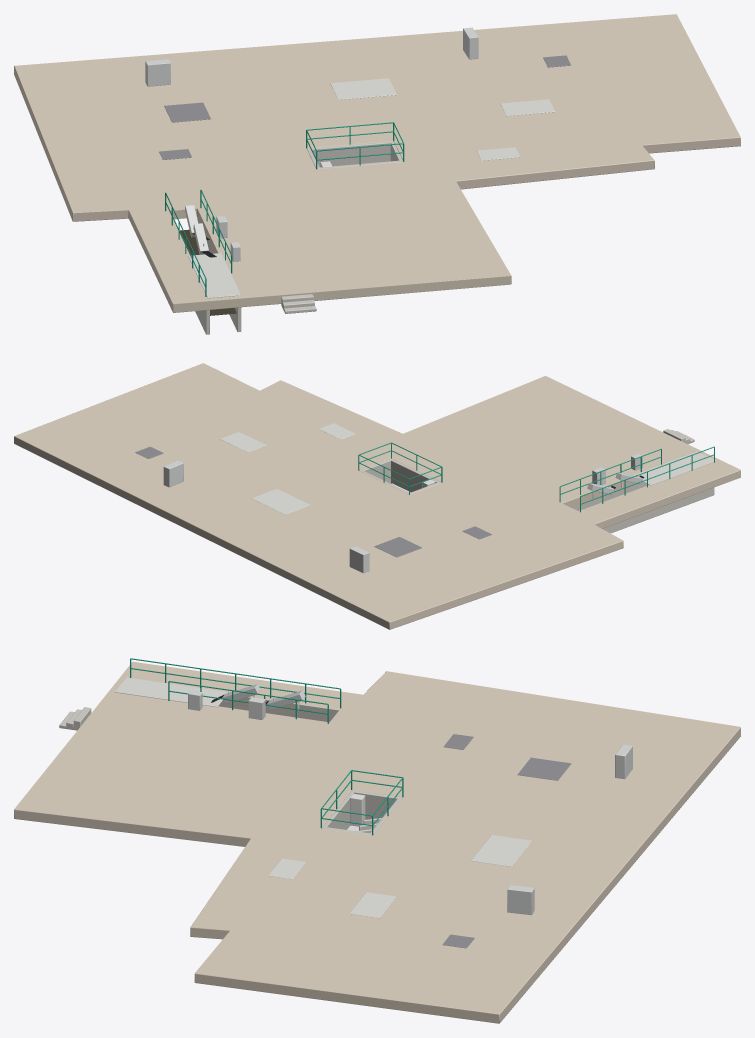
File: Zone_UV_dalle_basse.glb
The picture shows the model from 3 angles, top to bottom: view 1: azimuth 30°, elevation 25°; view 2: azimuth 150°, elevation 25°; view 3: azimuth 270°, elevation 25°; orthographic projection. The views are drawn at different scales.
Visible parts, largest first — view 1: UV_dalle, UV_grat, UV_bet, UV_inox, UV_vert, UV_trappe; view 2: UV_dalle, UV_bet, UV_grat, UV_inox, UV_vert, UV_trappe; view 3: UV_dalle, UV_grat, UV_bet, UV_inox, UV_vert, UV_trappe.
Part boxes in pixels (x1,y1,x2,y2): UV_dalle: (14,14,740,312); UV_grat: (188,78,555,298); UV_bet: (169,141,402,334); UV_inox: (145,27,478,261); UV_vert: (165,122,404,296); UV_trappe: (159,55,571,159); UV_dalle: (14,363,740,629); UV_bet: (359,429,714,533); UV_grat: (220,423,715,514); UV_inox: (163,453,642,573); UV_vert: (358,442,714,512); UV_trappe: (135,446,491,557); UV_dalle: (14,661,740,1023); UV_grat: (114,677,531,918); UV_bet: (59,697,402,835); UV_inox: (188,684,632,915); UV_vert: (130,658,403,835); UV_trappe: (442,734,571,948).
Bounding box in the file's own units: 38.91 × 4 × 33.89.
Materials: 10 (10 with a texture image).
